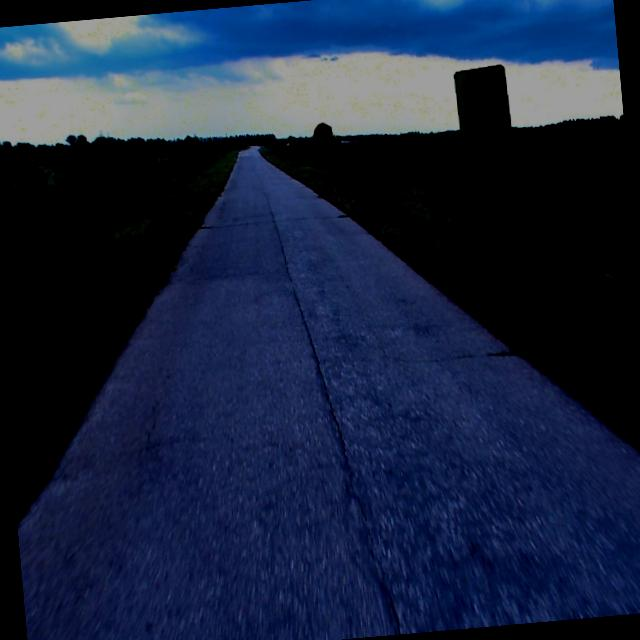road: (17, 147, 640, 640)
